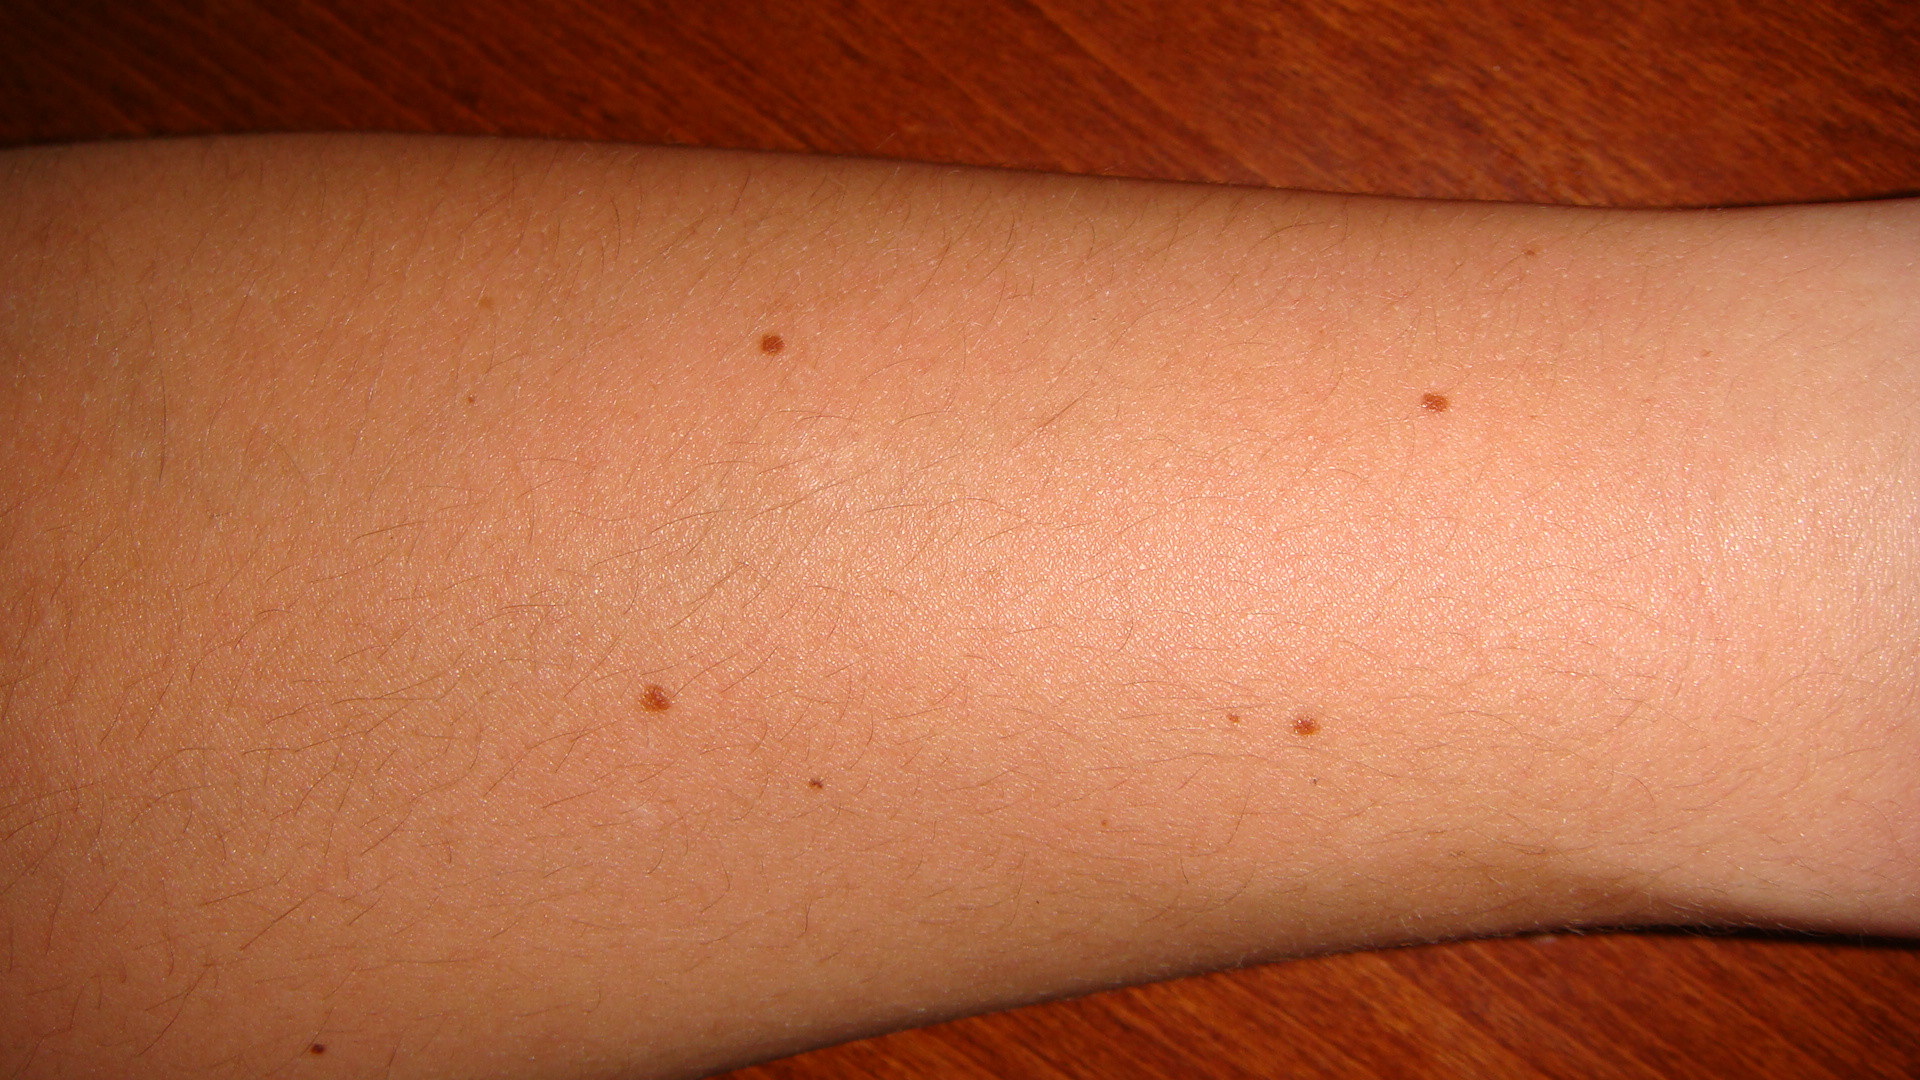mole: (624, 665, 692, 728), (744, 313, 811, 368), (1400, 369, 1464, 422), (1280, 698, 1338, 752), (294, 1023, 348, 1069)
